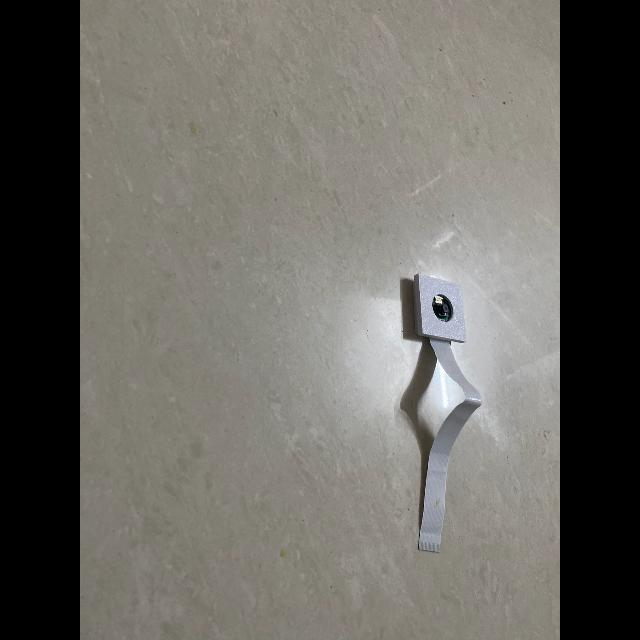RASPBERY PI CAM ENCLOSURE: (414, 273, 466, 343)
